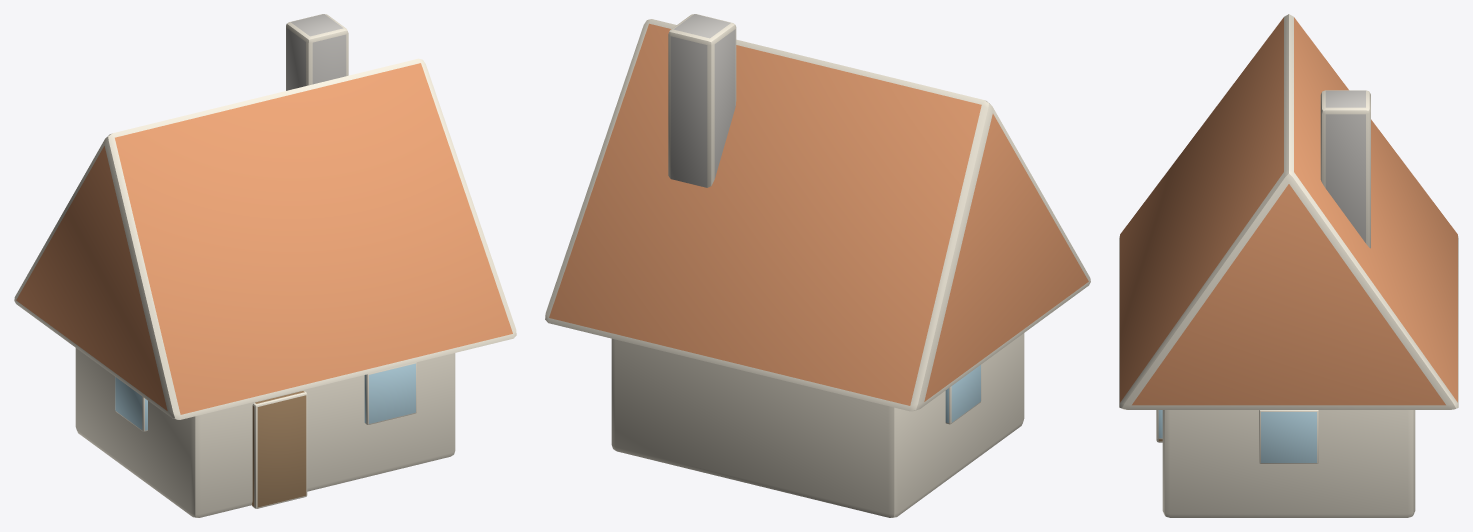
File: coast_cottage.glb
3 views of the same model, side by side, from view 1: azimuth 30°, elevation 25°; view 2: azimuth 150°, elevation 25°; view 3: azimuth 270°, elevation 25° (orthographic). The views are drawn at different scales.
Parts seen in each view (by area): view 1: Cottage; view 2: Cottage; view 3: Cottage.
Boxes of the visible parts, bbox=[...] form: Cottage: bbox=[14, 14, 516, 517]; Cottage: bbox=[545, 14, 1090, 517]; Cottage: bbox=[1119, 14, 1458, 517].
Size of the model in its own units: 6.58 by 6.9 by 5.37.
